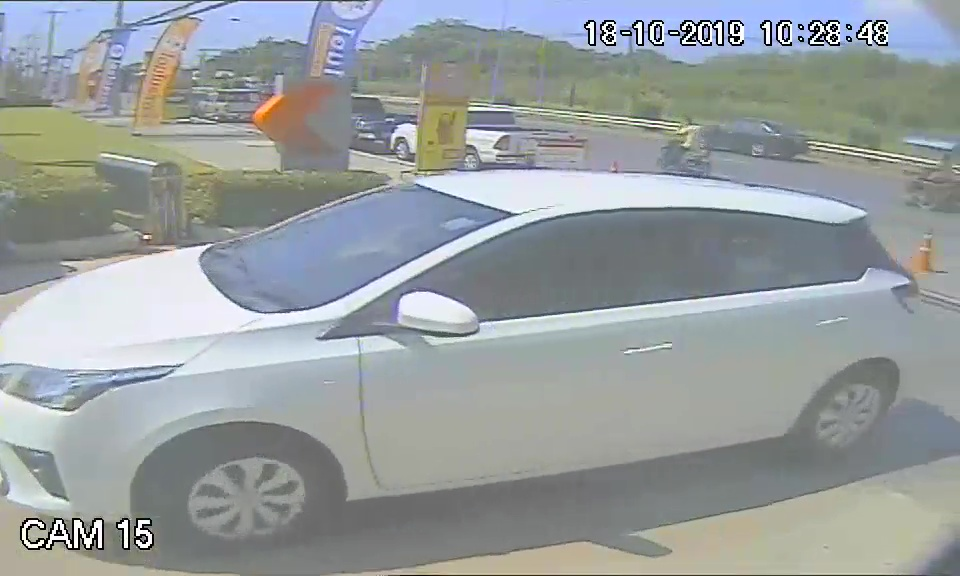sedan: (13, 163, 922, 541)
